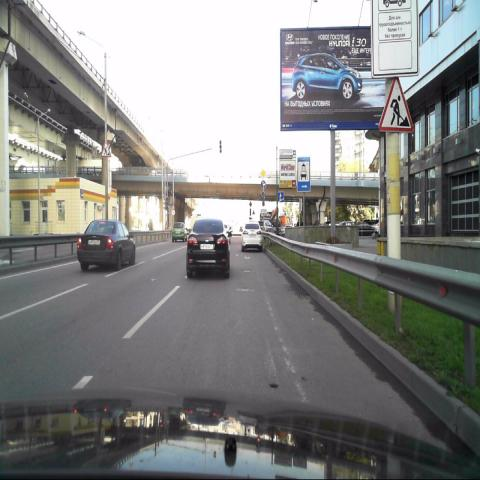7_5: (297, 156, 311, 192)
